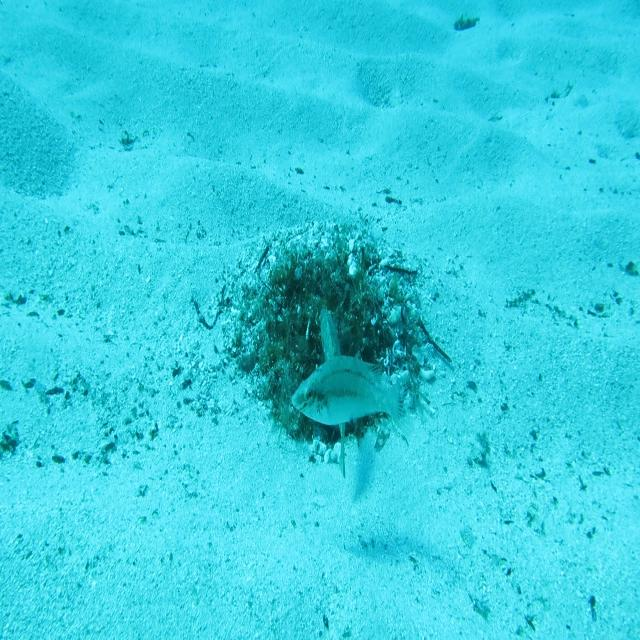FAN: (317, 304, 349, 482)
core_nest: (296, 272, 346, 307)
female: (290, 352, 418, 451)
nest: (217, 214, 439, 476)
vegetation: (448, 14, 482, 31)
